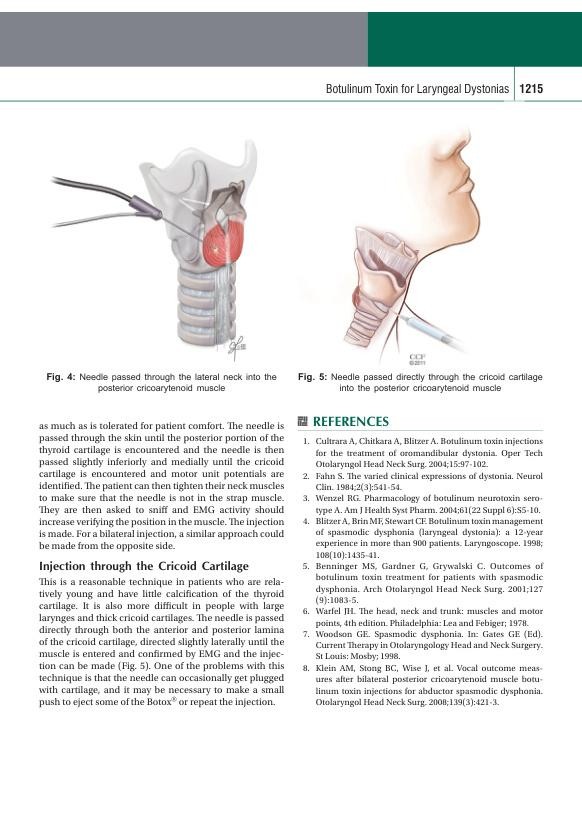caption: (295, 370, 545, 395), (44, 370, 277, 395)
header: (325, 82, 510, 96)
image: (290, 113, 536, 366), (44, 128, 275, 367)
list: (300, 433, 547, 709)
section-heading: (312, 414, 390, 429)
sub-section-heading: (38, 559, 250, 574)
text: (37, 575, 285, 709), (38, 420, 286, 553)
